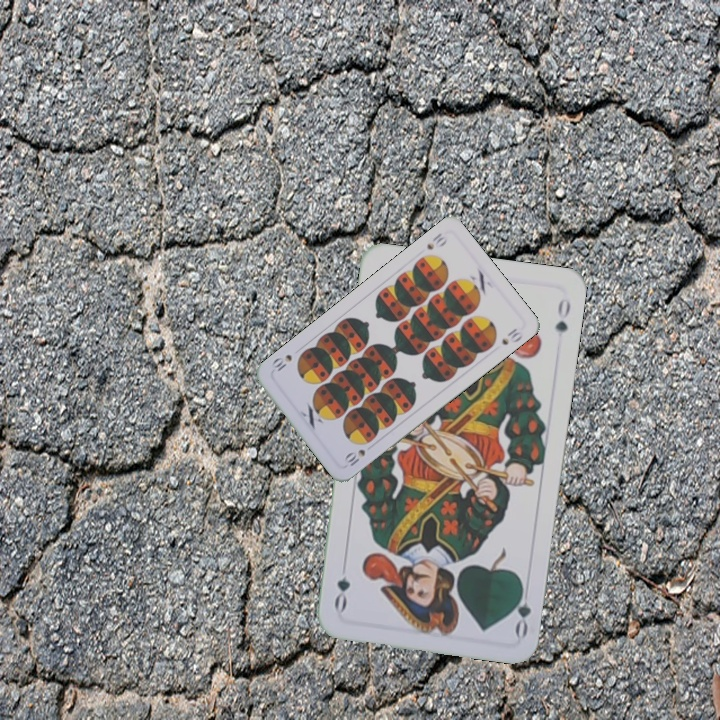GO: (508, 579, 534, 639)
S10: (422, 229, 450, 252), (342, 445, 368, 469)
